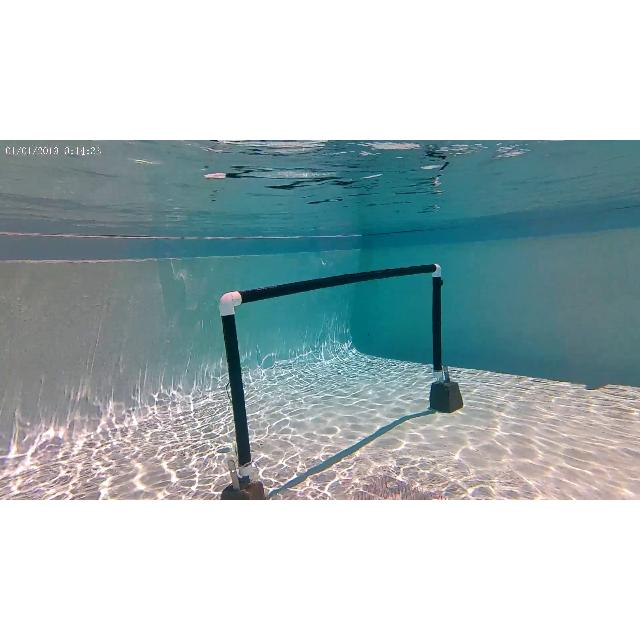prequal gate: (220, 264, 442, 476)
prequal gate leg l: (216, 289, 262, 495)
prequal gate leg r: (430, 258, 450, 376)
